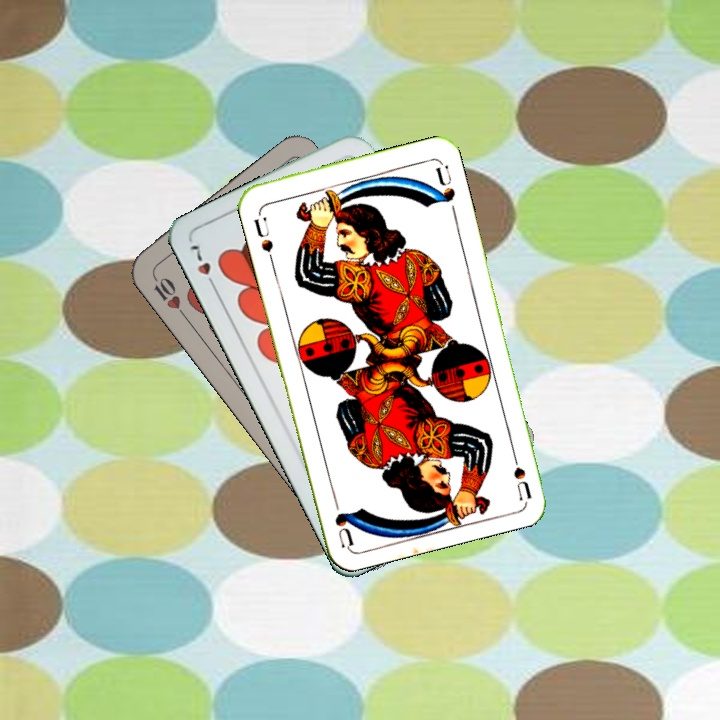H10: (148, 270, 189, 321)
H7: (186, 240, 220, 294)
SU: (506, 442, 534, 501), (249, 213, 276, 265)
